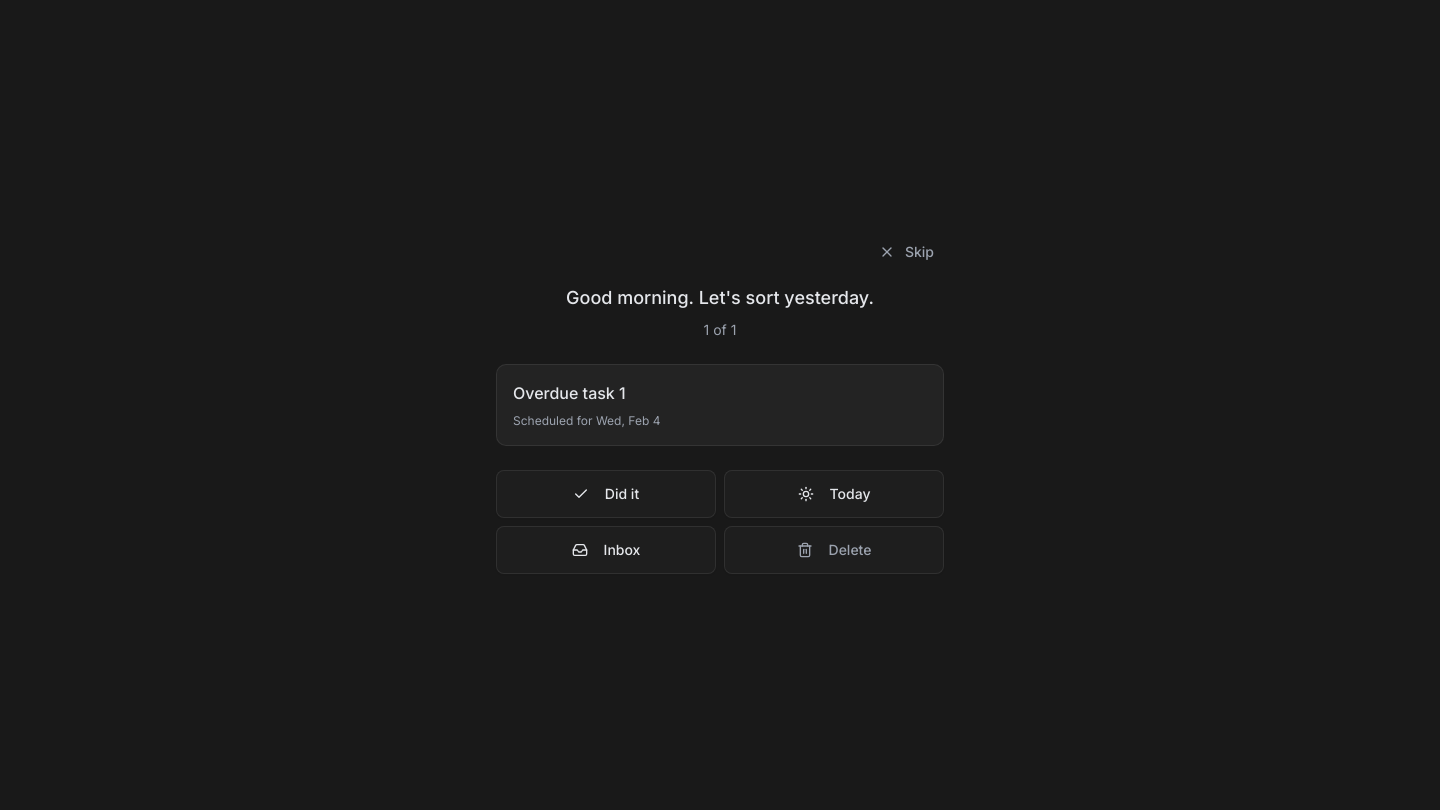
Test: MorningReviewModal › tasks step › transitions to habits step after last task
Click the button "Did it".
click(606, 494)  # box top-left (496, 470), bottom-right (716, 518)
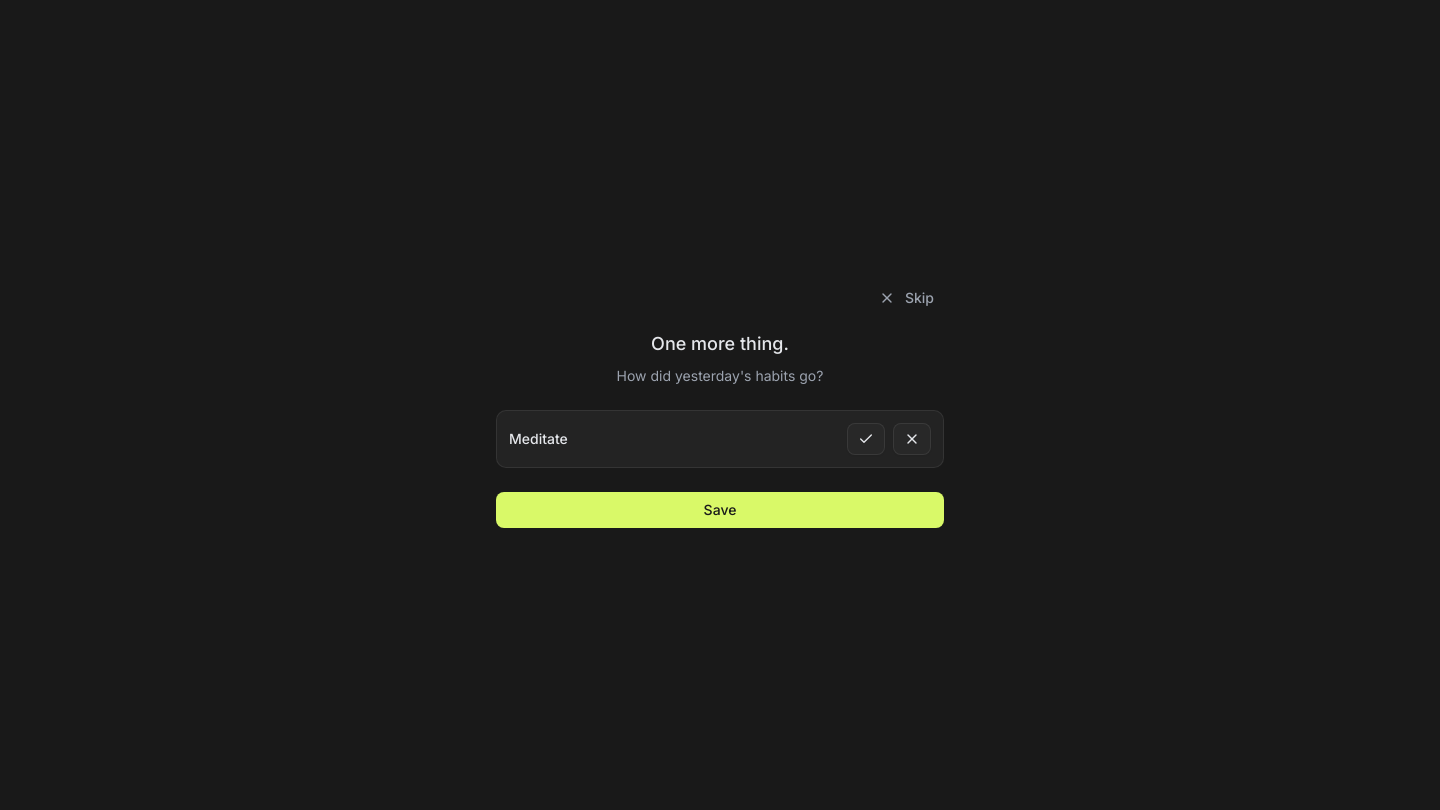
Expected: the text "How did yesterday's habits go?" is shown, top-left (617, 367), bottom-right (823, 384)
